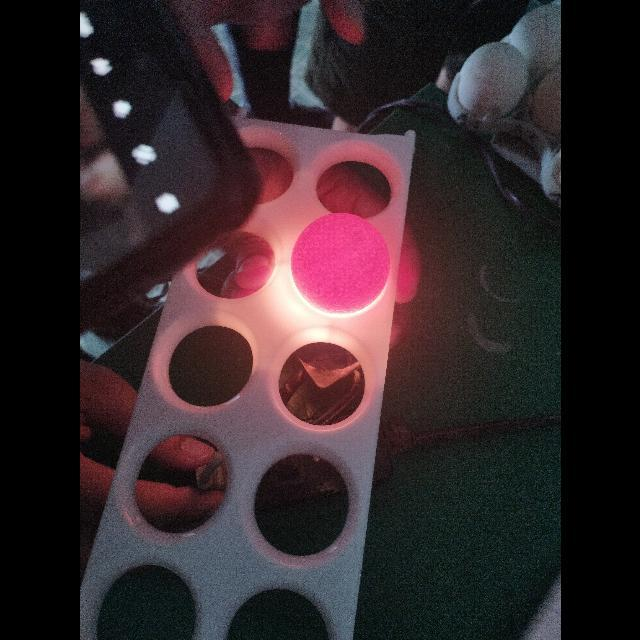Infertile: (294, 216, 386, 310)
